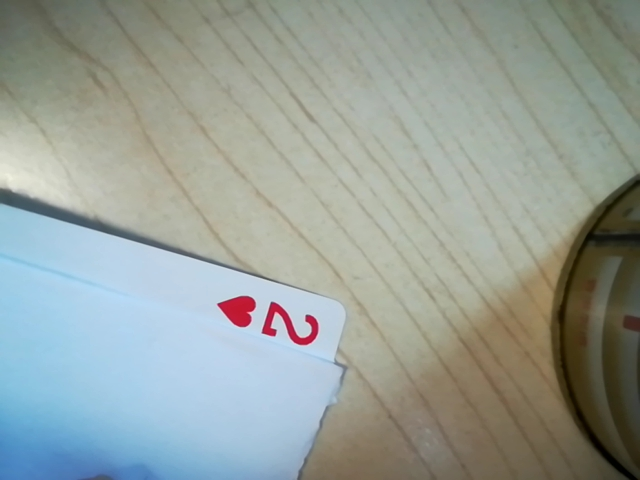hx 2: (220, 289, 329, 357)
